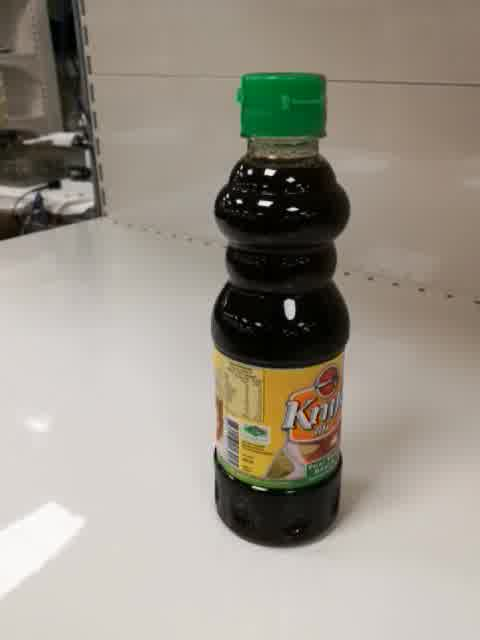cookingoil: (210, 70, 354, 551)
